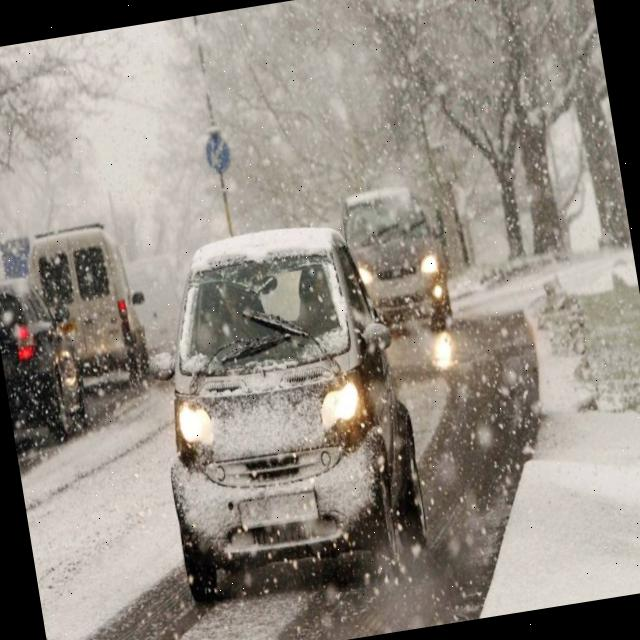car: (132, 210, 432, 610), (24, 220, 154, 394), (335, 180, 452, 340), (0, 273, 87, 452)
